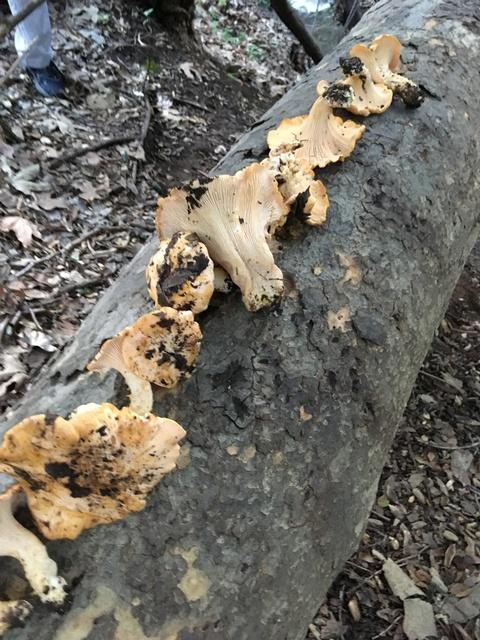edible_mushroom: (3, 403, 181, 549), (264, 39, 425, 197), (153, 160, 289, 313), (99, 310, 205, 410)
